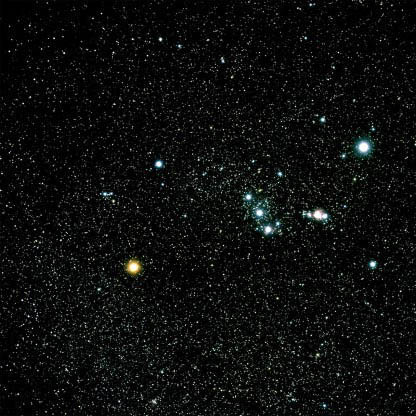Orion: (114, 250, 147, 283), (348, 131, 377, 160), (257, 221, 287, 243), (365, 252, 388, 279), (148, 153, 173, 175), (237, 186, 258, 202), (248, 203, 269, 218)
